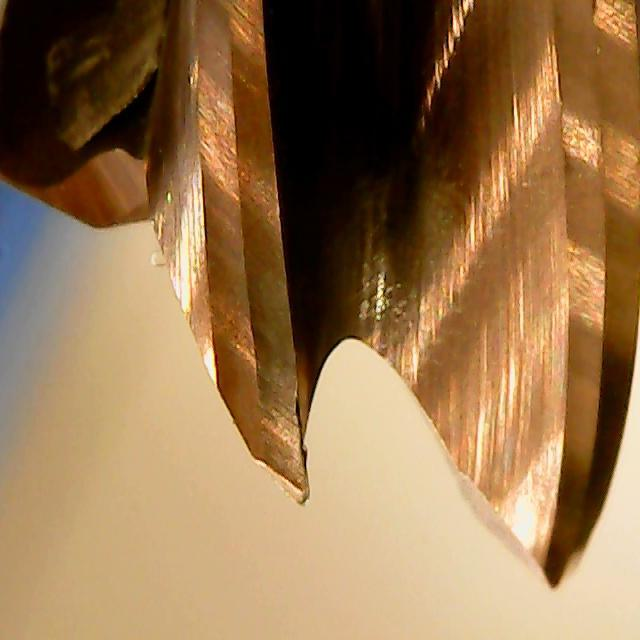Tool-wear-class-1: (197, 265, 338, 510)
